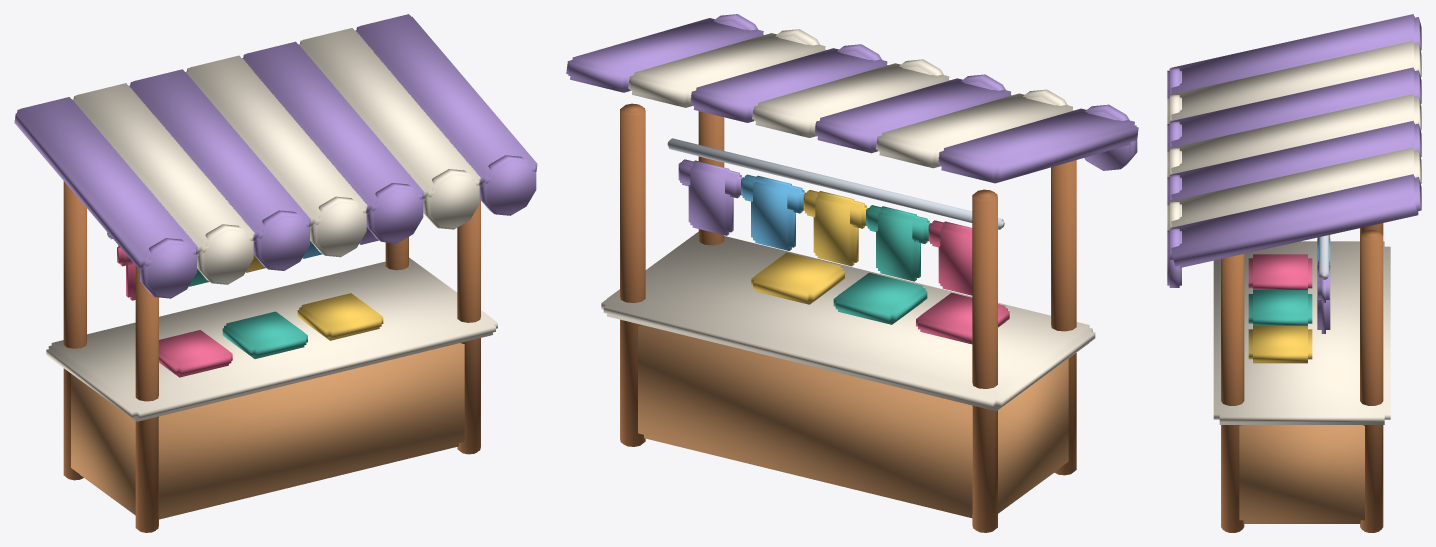
Rendered from MarketStall_Roupas.fbx.
3 views of the same model, side by side, from view 1: azimuth 30°, elevation 25°; view 2: azimuth 150°, elevation 25°; view 3: azimuth 270°, elevation 25° (orthographic). The views are drawn at different scales.
Visible parts, largest first — view 1: MarketStall_Roupas; view 2: MarketStall_Roupas; view 3: MarketStall_Roupas.
Boxes of the visible parts, x1,y1,x2,y2 form: MarketStall_Roupas: [14, 14, 537, 532]; MarketStall_Roupas: [566, 14, 1138, 532]; MarketStall_Roupas: [1167, 14, 1421, 532].
Bounding box in the file's own units: 3.05 × 2.65 × 1.75.
